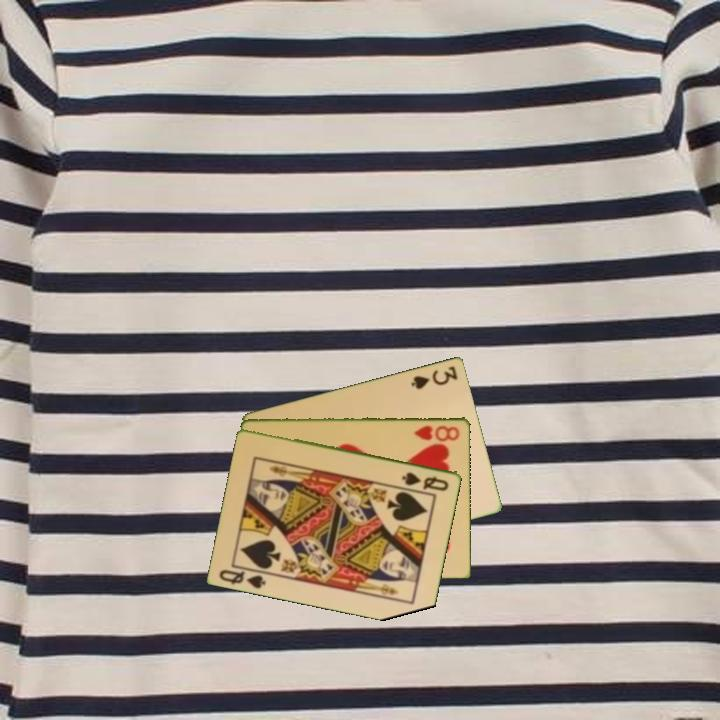3s: (408, 362, 460, 392)
8h: (411, 422, 463, 443)
Qs: (216, 562, 272, 591), (399, 468, 452, 494)
